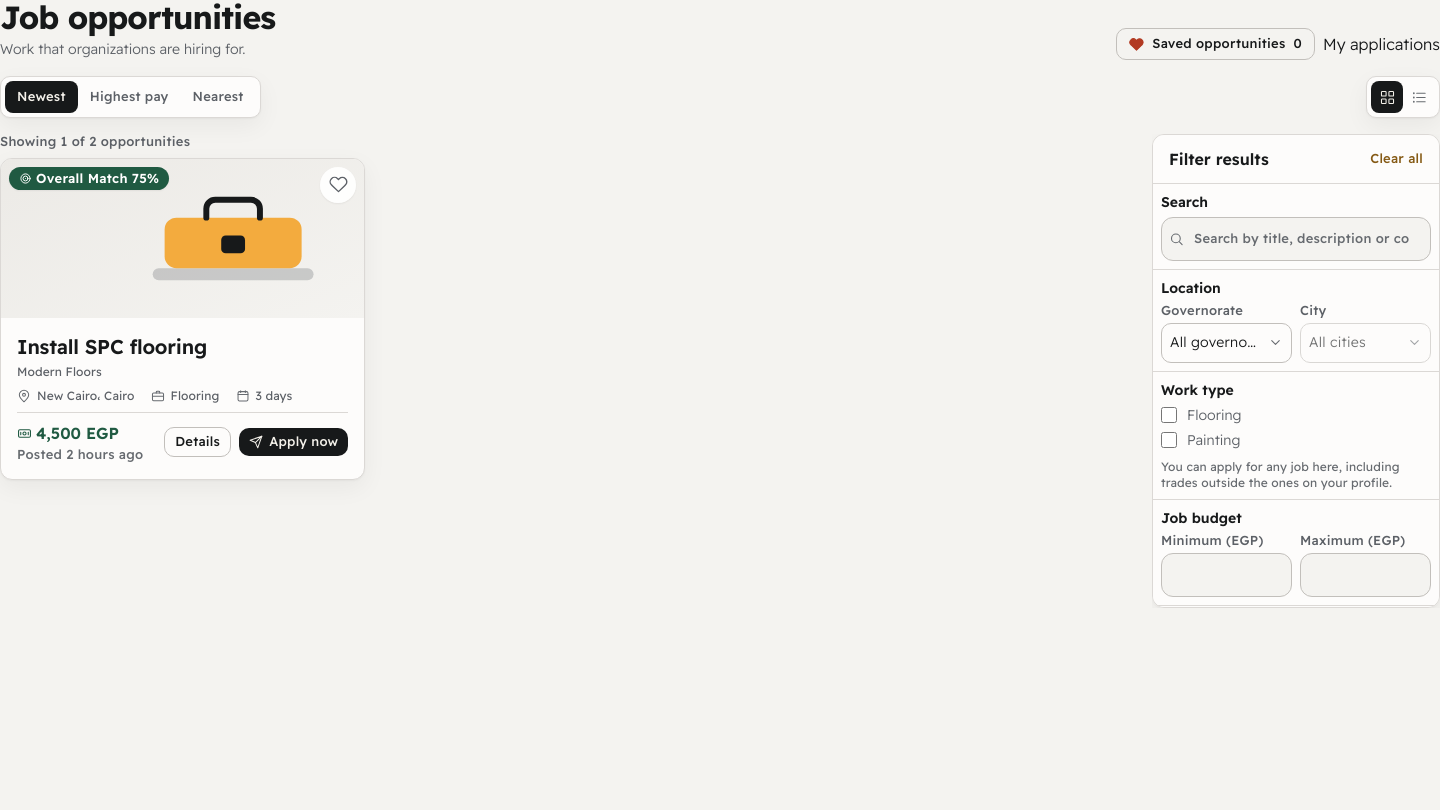
Test: production Jobs board — one approved presentation, only real capabilities › Overall Match — the canonical database breakdown, drawn and never recomputed › 75% is named 'Strong match' in its breakdown
This screenshot has width=1440, height=810.
Click the button with test id "match-badge": (89, 179) [9,167,169,190]
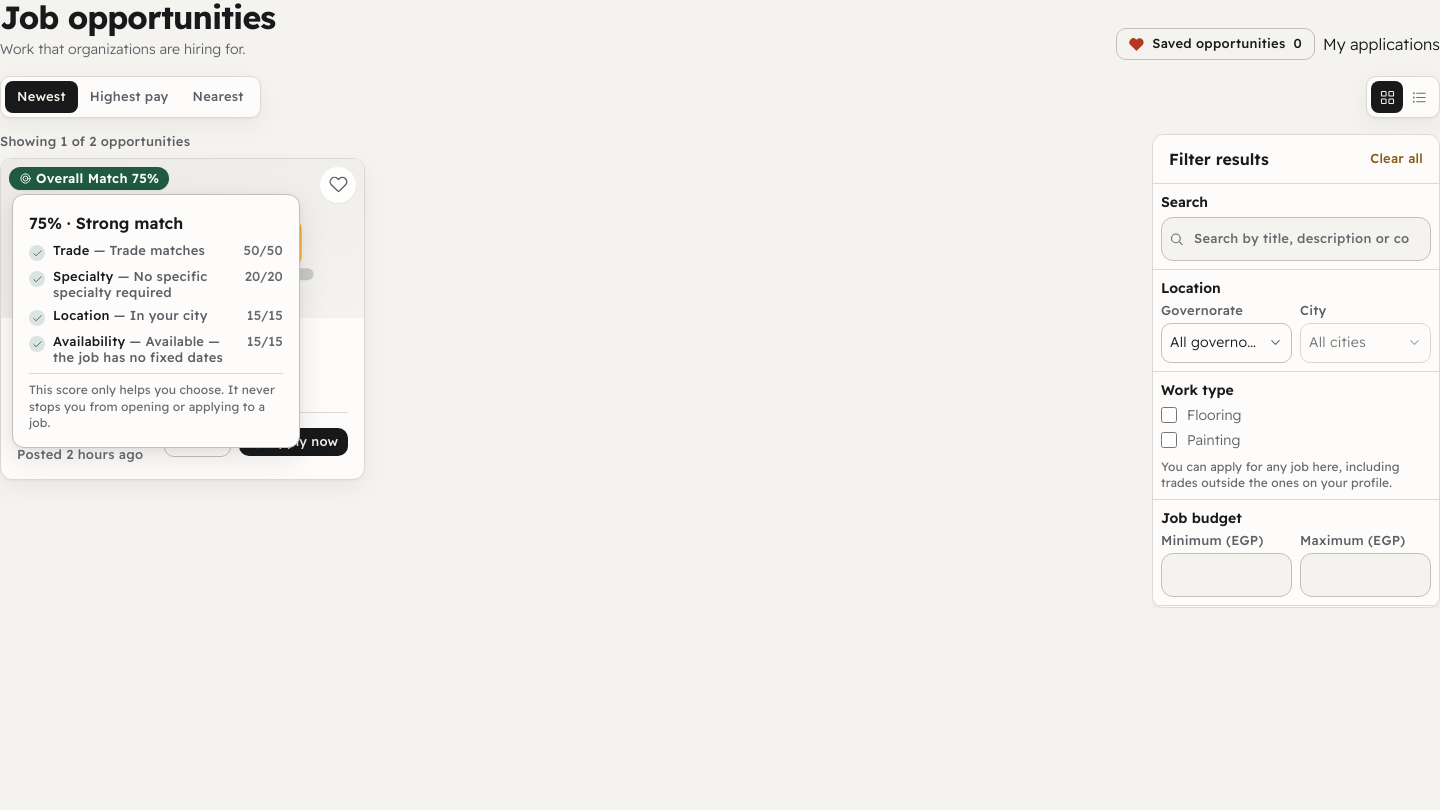
Check: the text "75% · Strong match" is shown, box [29,213,183,233]
